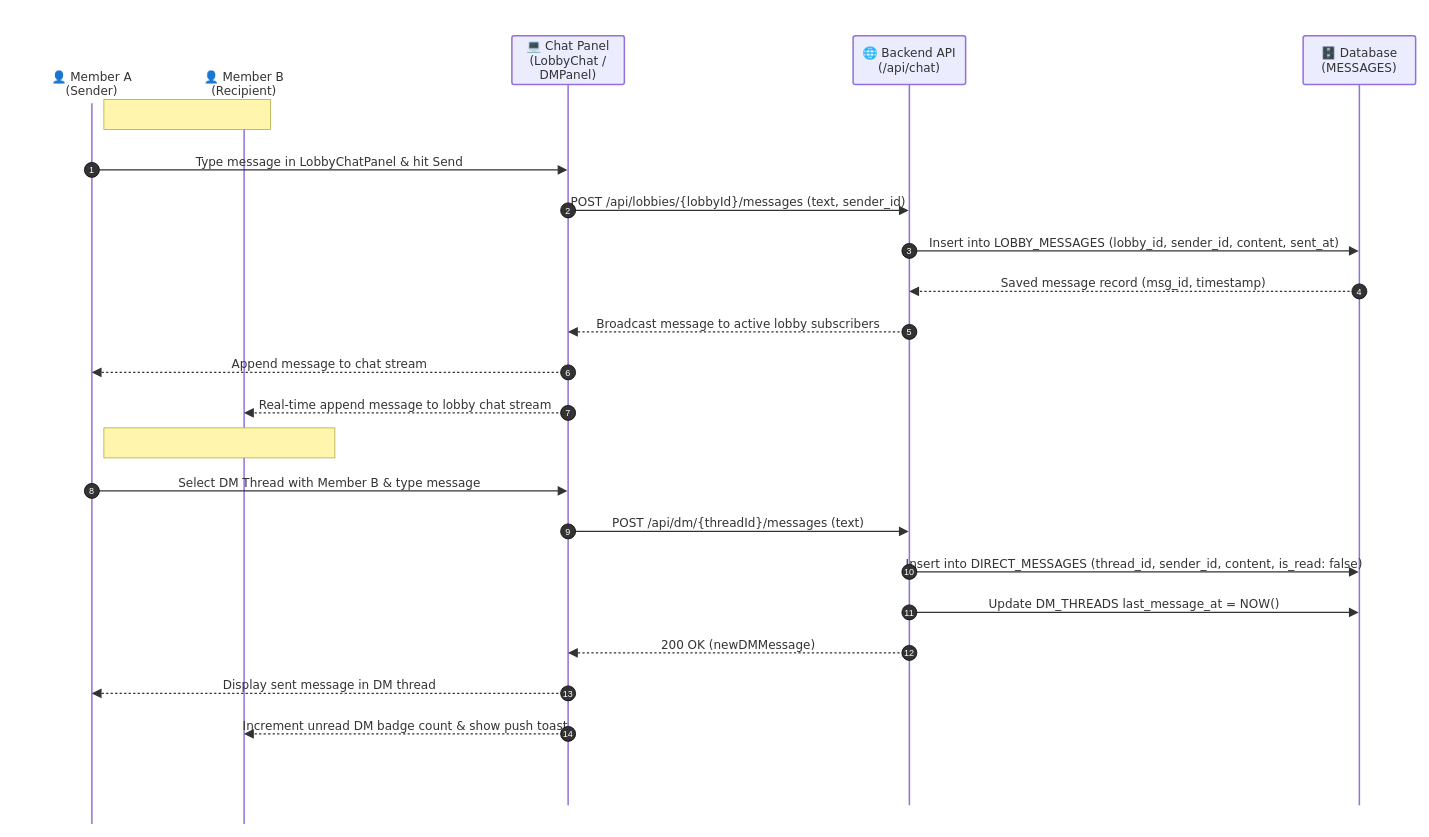
This 1429x837 diagram has some shape labels left out. Here are the shapes that lost their labels. From the top down, the centre of each, then its label:
(x=186, y=114): Scenario A: Lobby Group Chat
(x=219, y=442): Scenario B: 1-on-1 Direct Messaging (DM)
